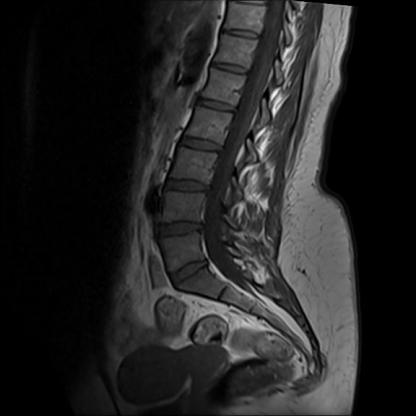Degenerative Disc Diseaserotation: (153, 217, 210, 240)
